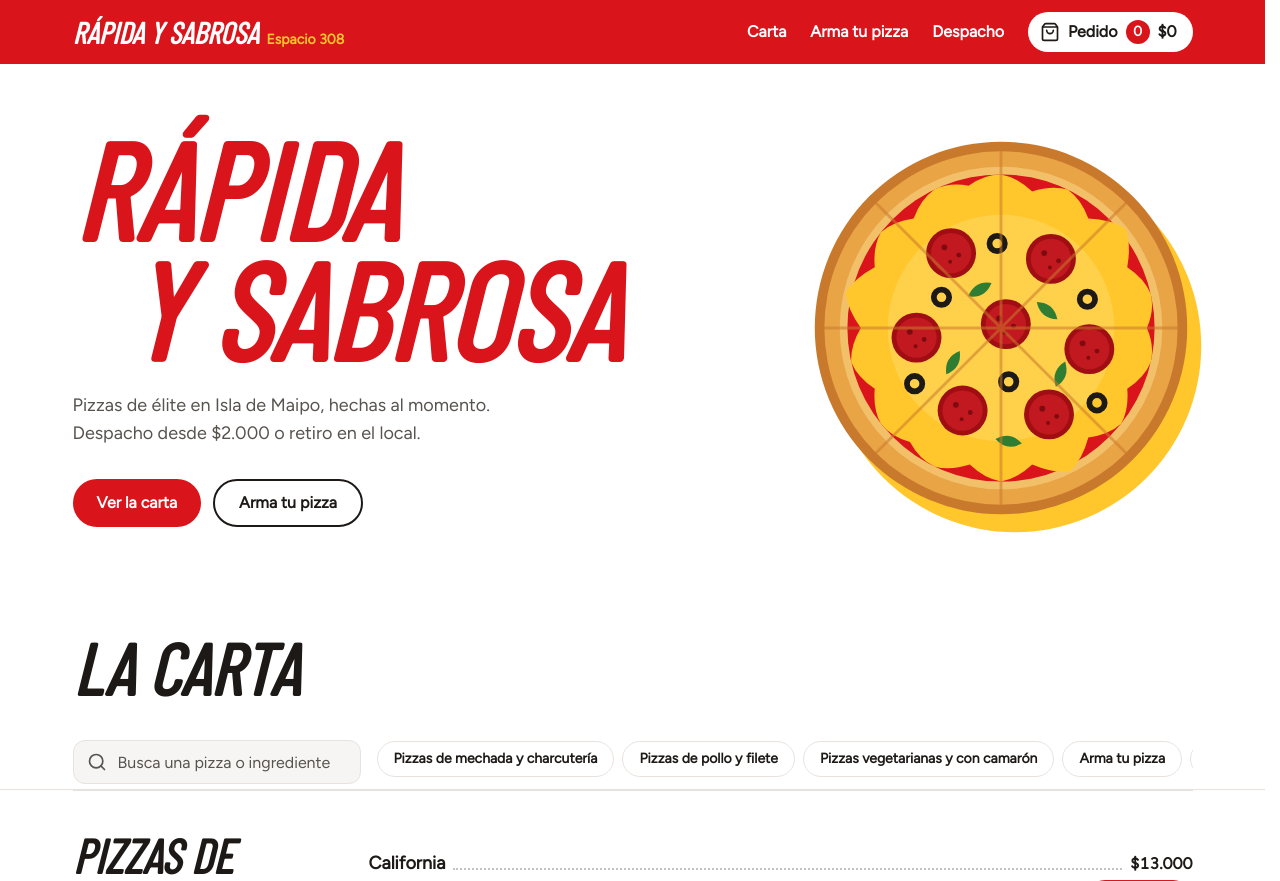
Scenario: App › el buscador también busca en el nombre de la categoría
The width and height of the screenshot is (1280, 881).
Type "jugo" into the search field named "Buscar en la carta". click: (216, 762)
box: [72,740,360,784]
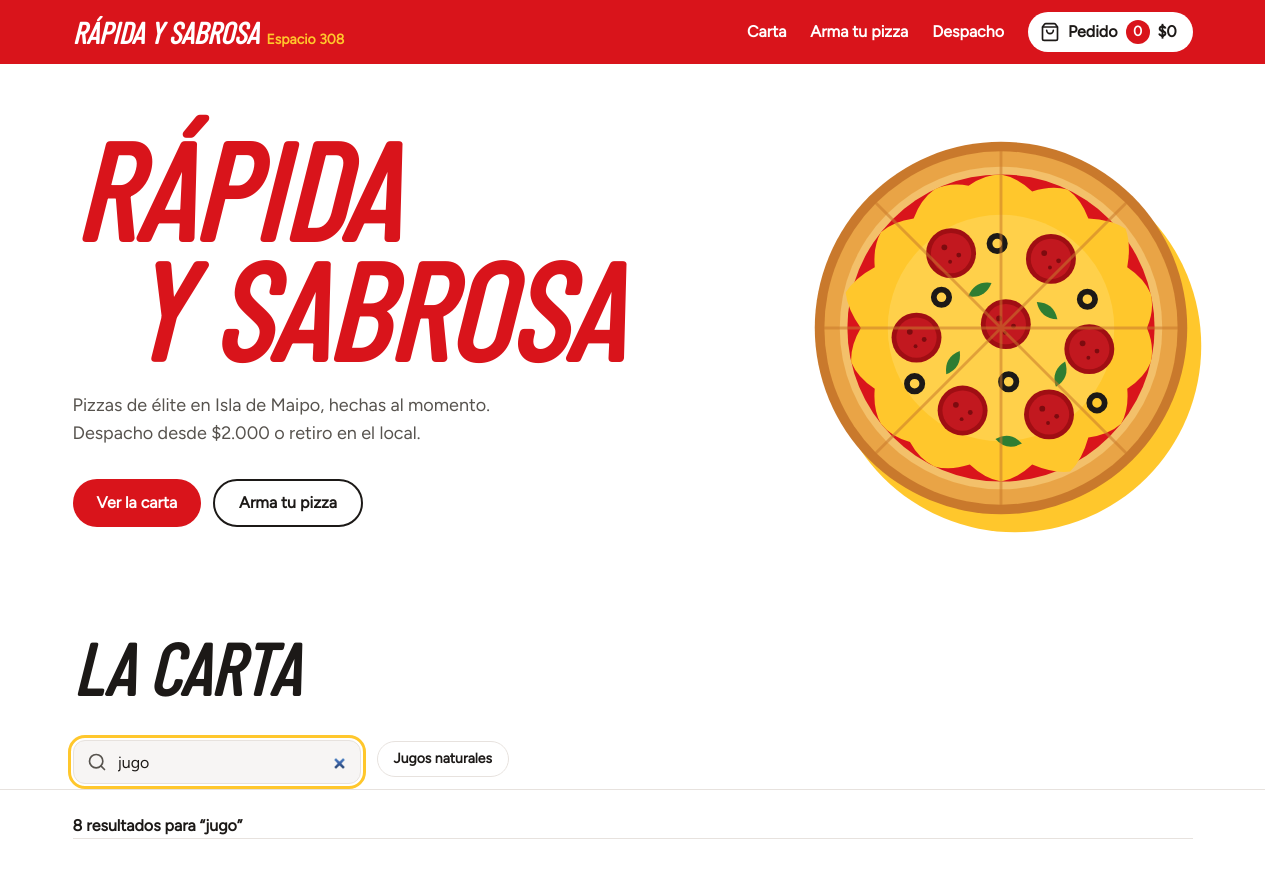
Type " mango" into the search field named "Buscar en la carta". click: (216, 762)
box: [72,740,360,784]
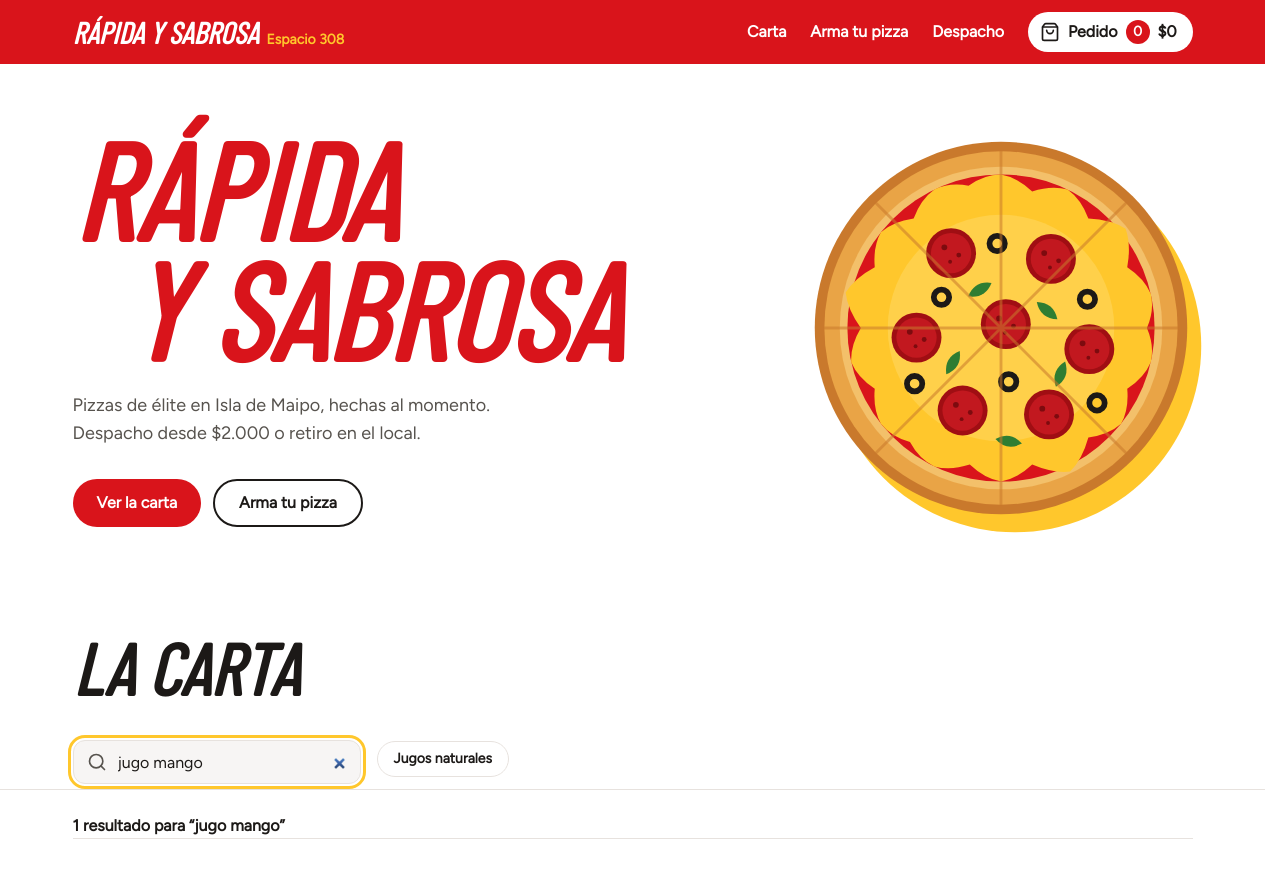
Expected: the message reads "1 resultado para “jugo mango”", [72,816,285,835]
